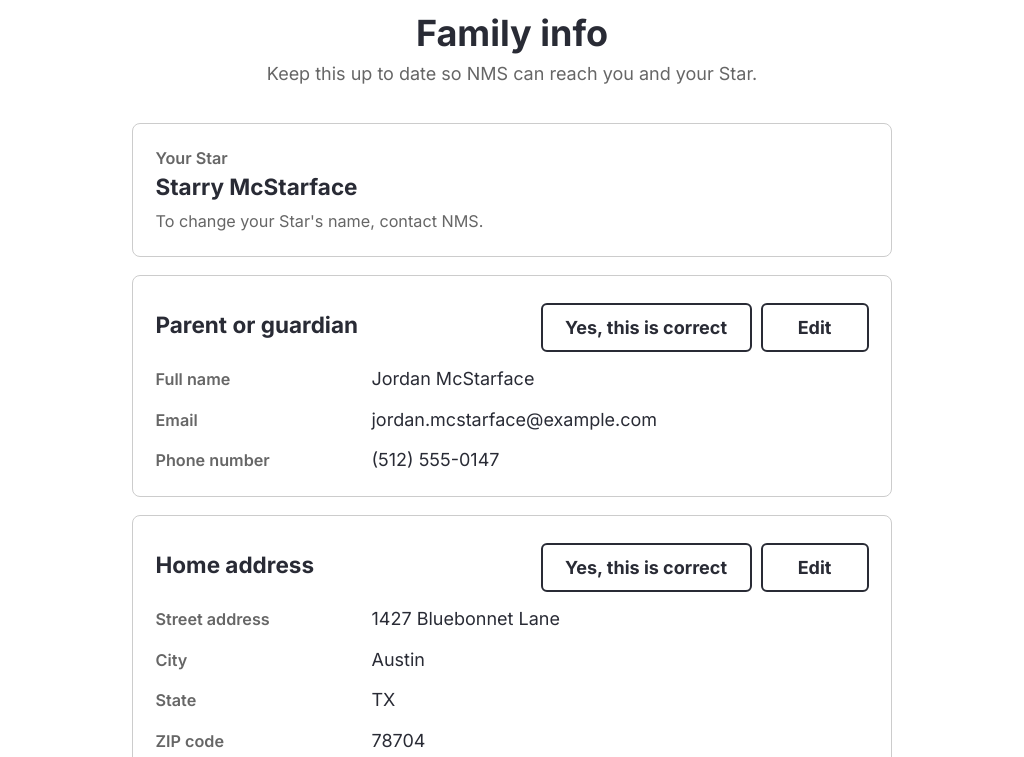
Test: FamilyTab › moves focus to the first invalid field
Click the button with aria-label "Edit parent or guardian". click: (814, 327)
box: [760,302,868,352]
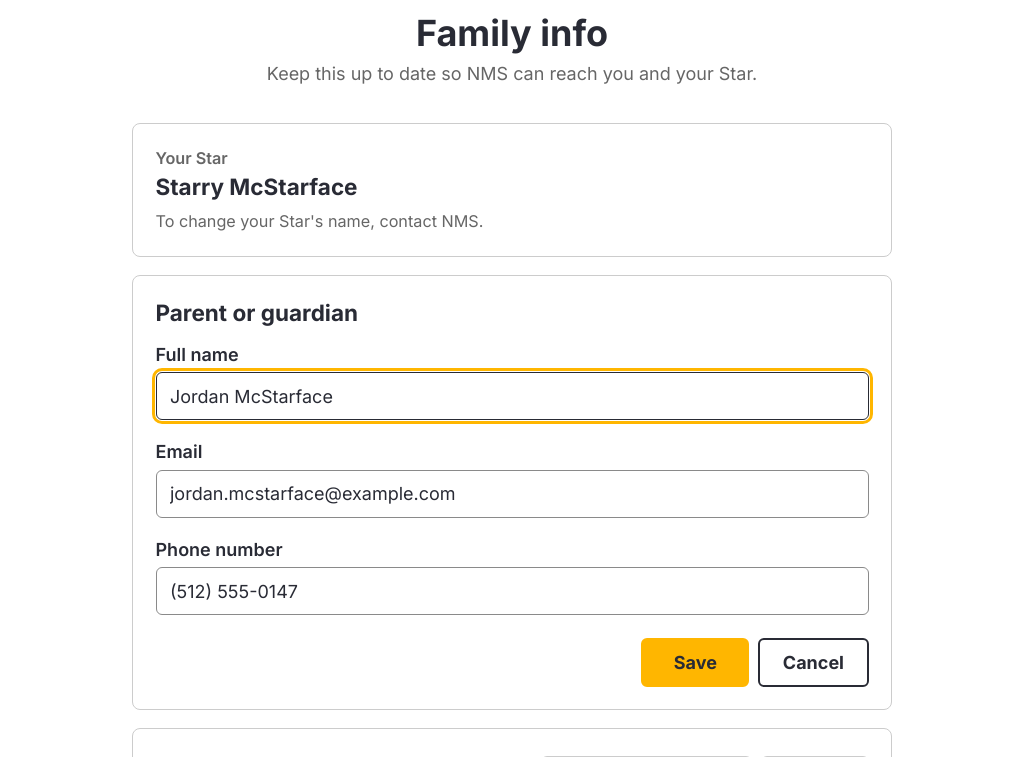
Replace the text in the field labelled "Email" with "nope". click: (512, 494)
box: [156,470,868,518]
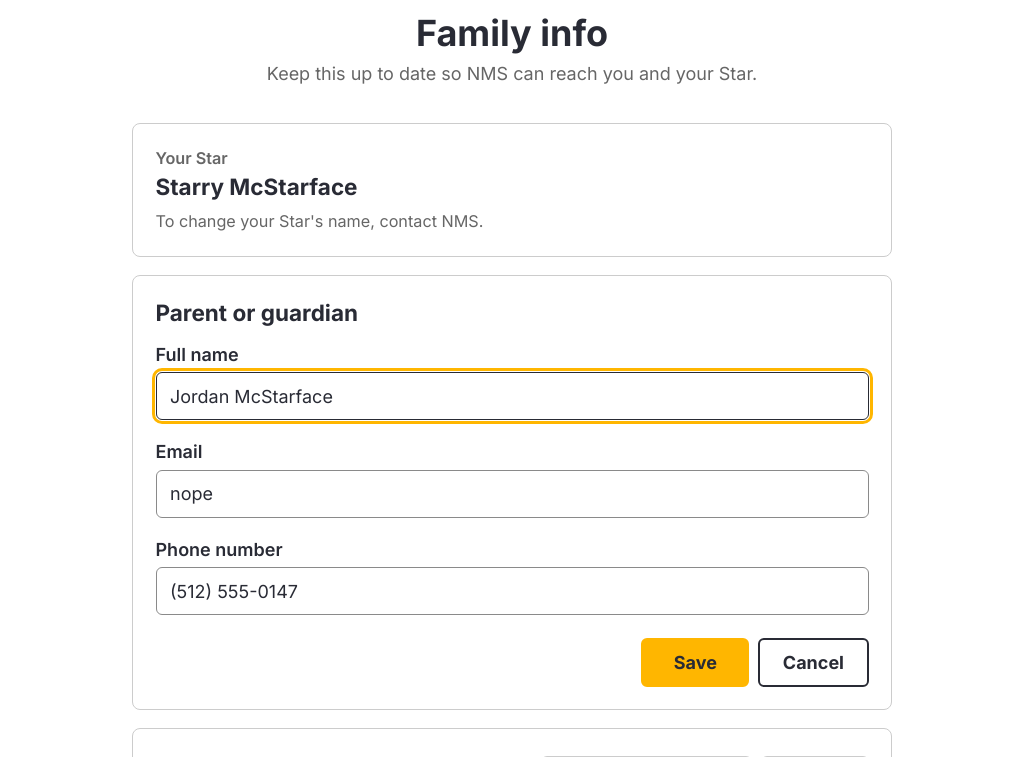
Replace the text in the field labelled "Phone number" with "123". click: (512, 591)
box: [156,567,868,615]
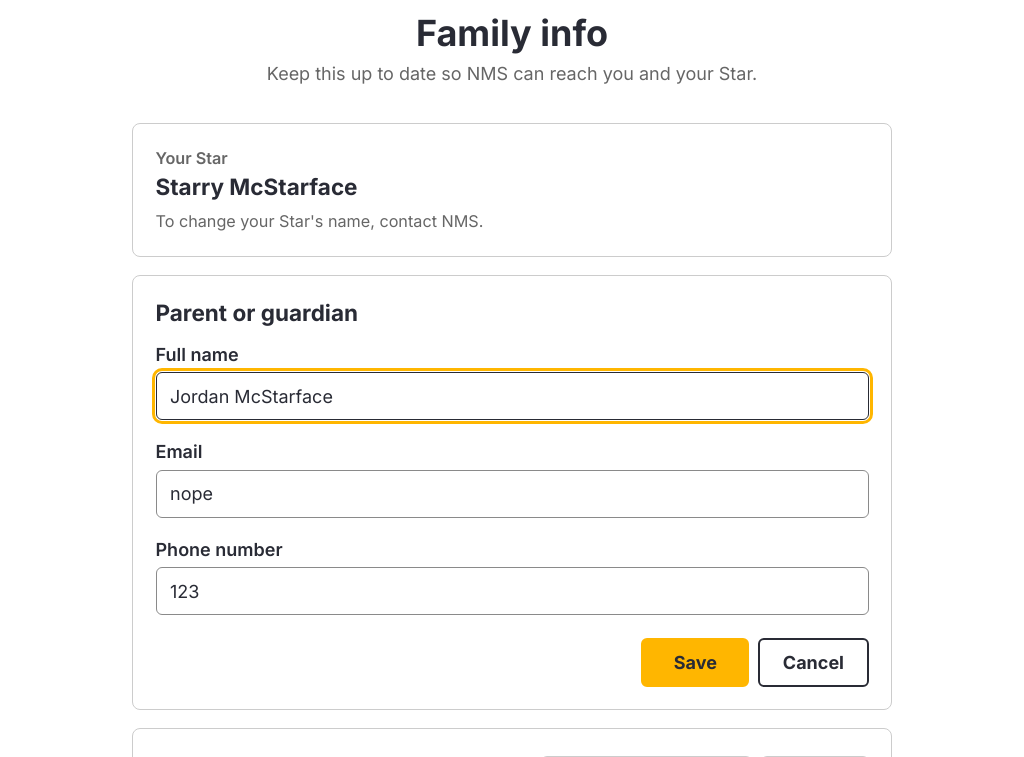
Click the button "Save". click: (695, 662)
box: [641,638,749,687]
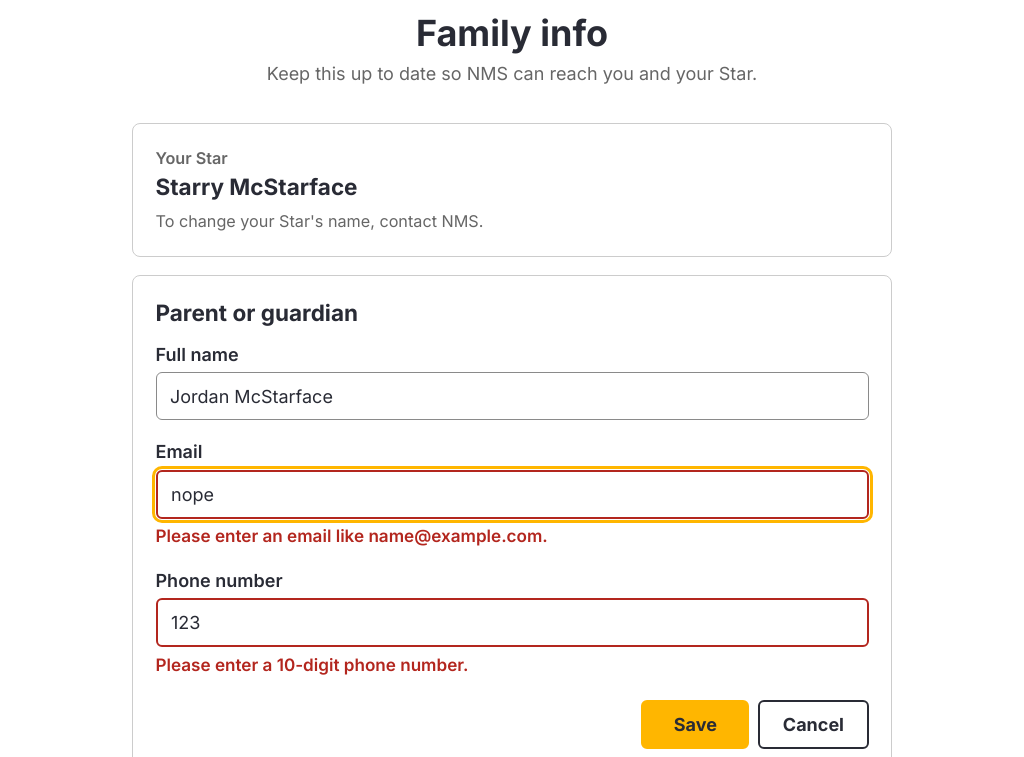
Expected: the text "Please enter a 10-digit phone number." is shown, [156,654,468,675]
